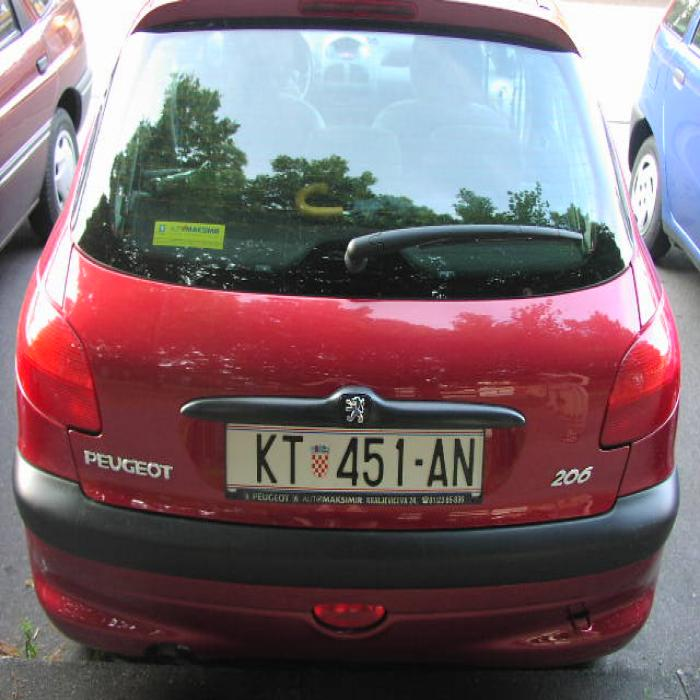number_plate: (226, 426, 482, 488)
